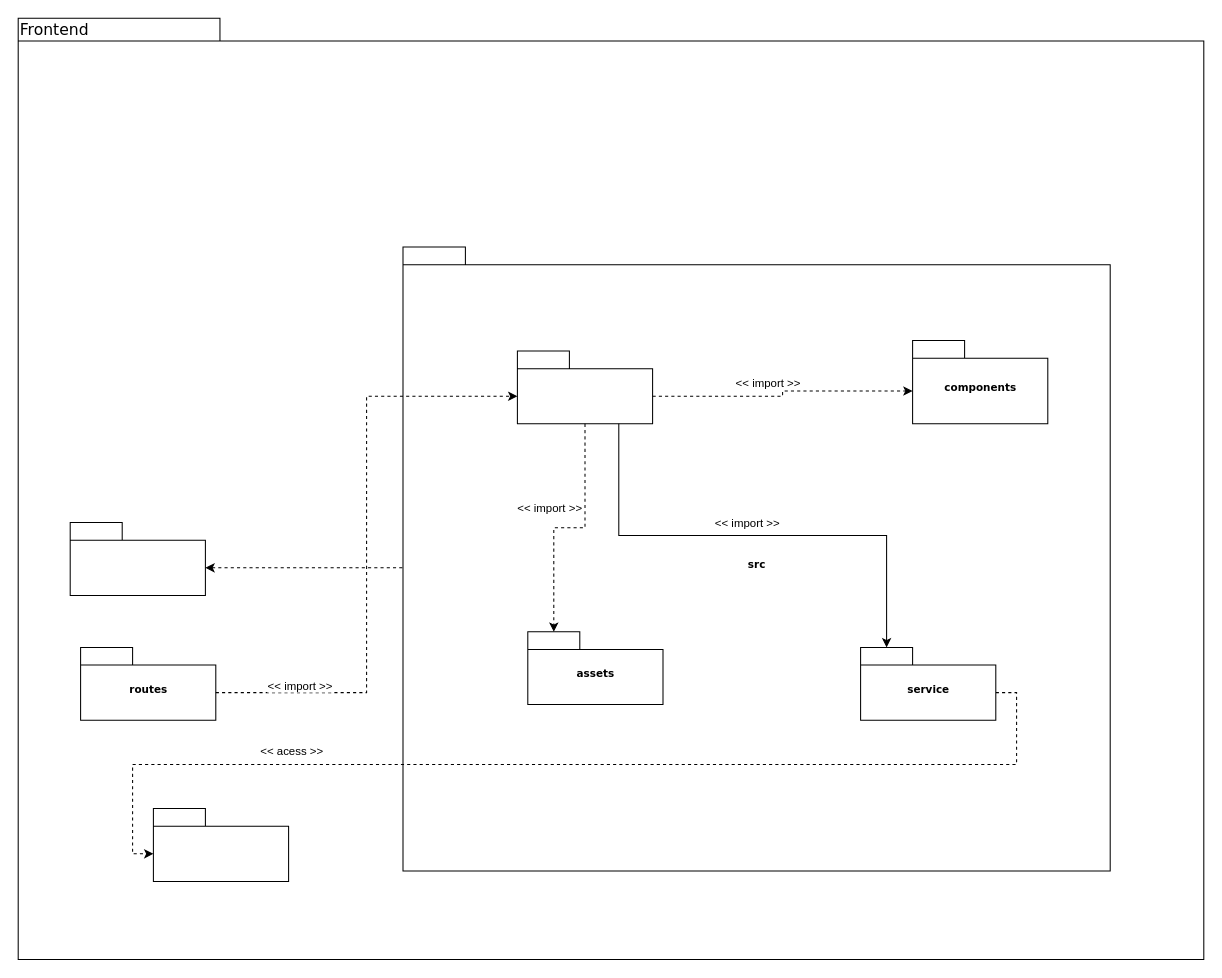
This 1222x978 diagram has some shape labels left out. The shapes that lost their labels are listed below. From the top down, each one's centre as x and y in pixels, then its label:
(x=584, y=387): Pages
(x=137, y=558): node_modules
(x=220, y=844): api (Backend)
